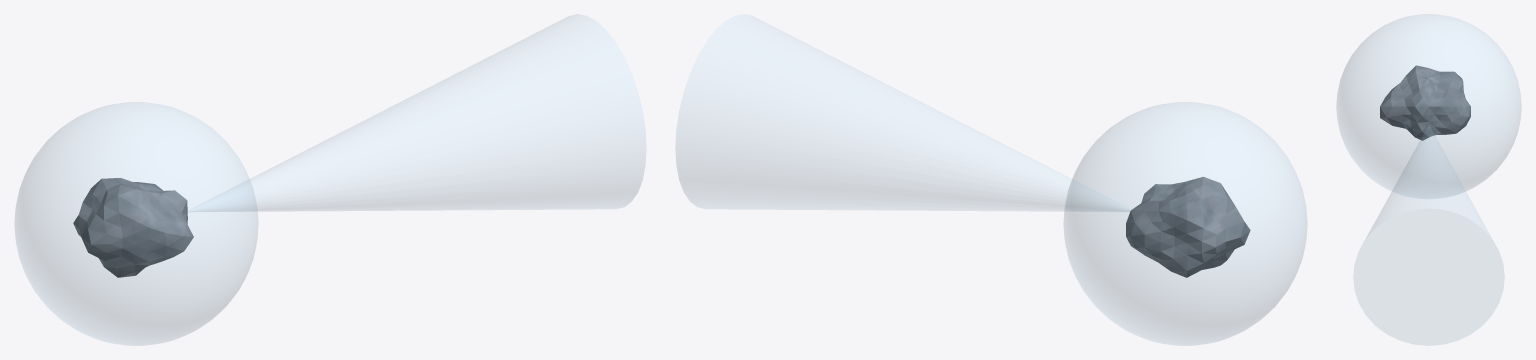
Rendered from komet.glb.
3 views of the same model, side by side, from view 1: azimuth 30°, elevation 25°; view 2: azimuth 150°, elevation 25°; view 3: azimuth 270°, elevation 25° (orthographic). The views are drawn at different scales.
Parts seen in each view (by area): view 1: Ekor, Koma, Inti; view 2: Ekor, Koma, Inti; view 3: Koma, Ekor, Inti.
Part boxes in pixels (x1,y1,x2,y2): Ekor: [188, 14, 645, 211]; Koma: [14, 102, 258, 345]; Inti: [73, 178, 193, 277]; Ekor: [676, 14, 1130, 211]; Koma: [1063, 102, 1307, 345]; Inti: [1126, 176, 1250, 277]; Koma: [1336, 14, 1521, 198]; Ekor: [1353, 126, 1504, 345]; Inti: [1380, 65, 1470, 140].
Bounding box in the file's own units: 0.618 × 0.231 × 0.231.
3 materials, 1 textured.
